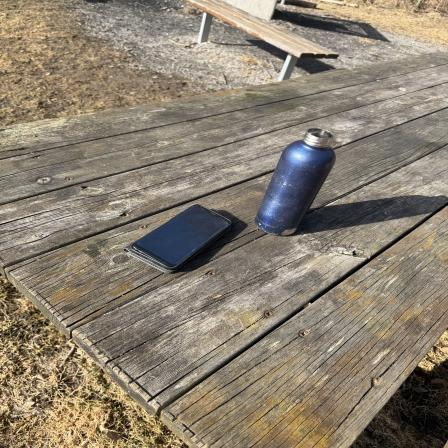blue_bottle: (258, 125, 338, 237)
phone: (126, 203, 236, 275)
